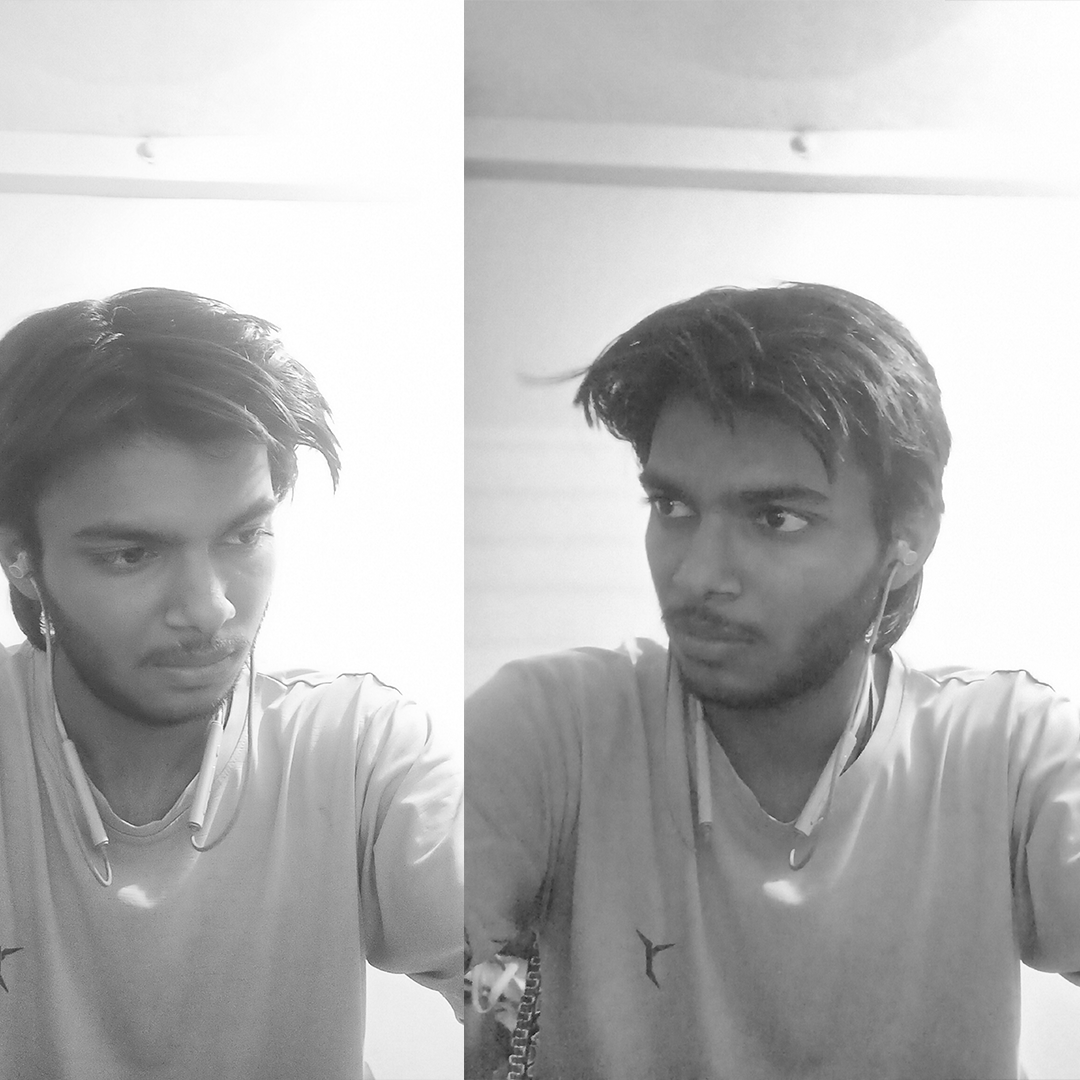distracted: (555, 226, 1042, 934), (5, 214, 432, 907)
